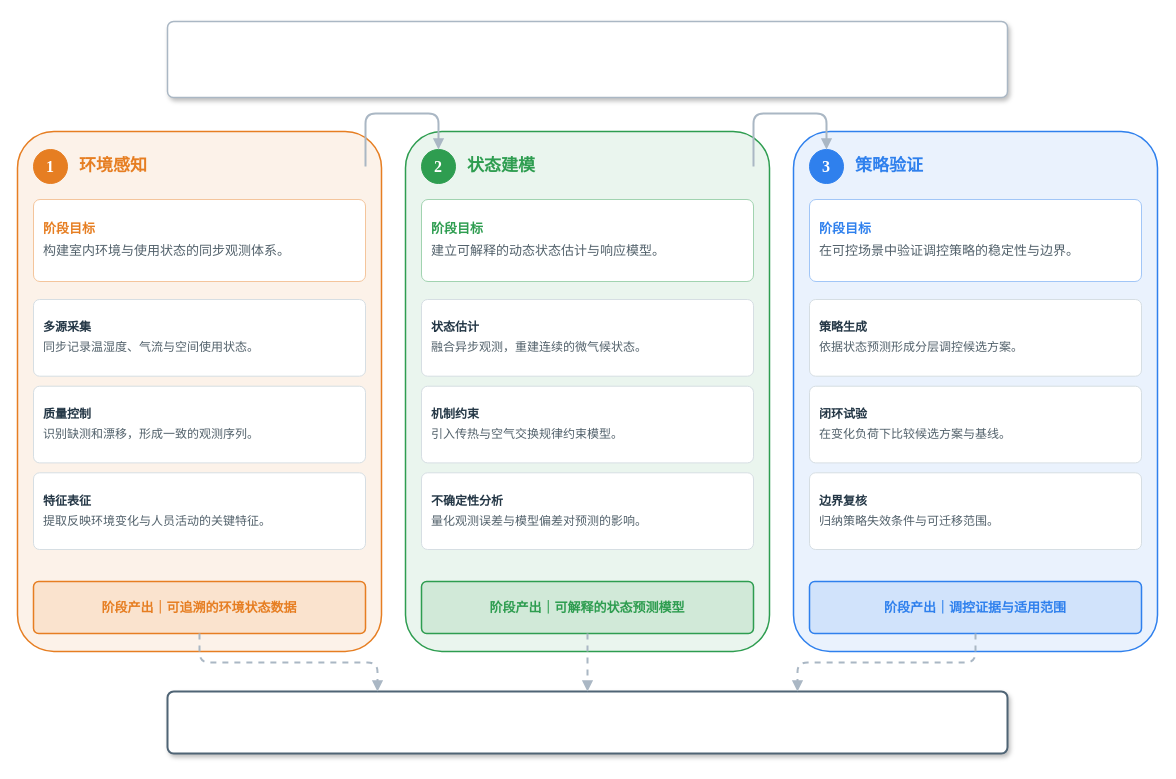
The diagram is 1176 pixels wide and 779 high, and some of its shapes have lost their labels. The shapes that lost their labels are listed below. From the top down, each one's centre as x and y in pixels, then its label:
pixel 588 60: 虚构示例｜公共建筑微气候自适应调控技术路线 多源感知 → 状态估计 → 闭环验证
pixel 588 723: 综合目标｜ 形成面向公共建筑微气候的可解释调控方法与验证链条
